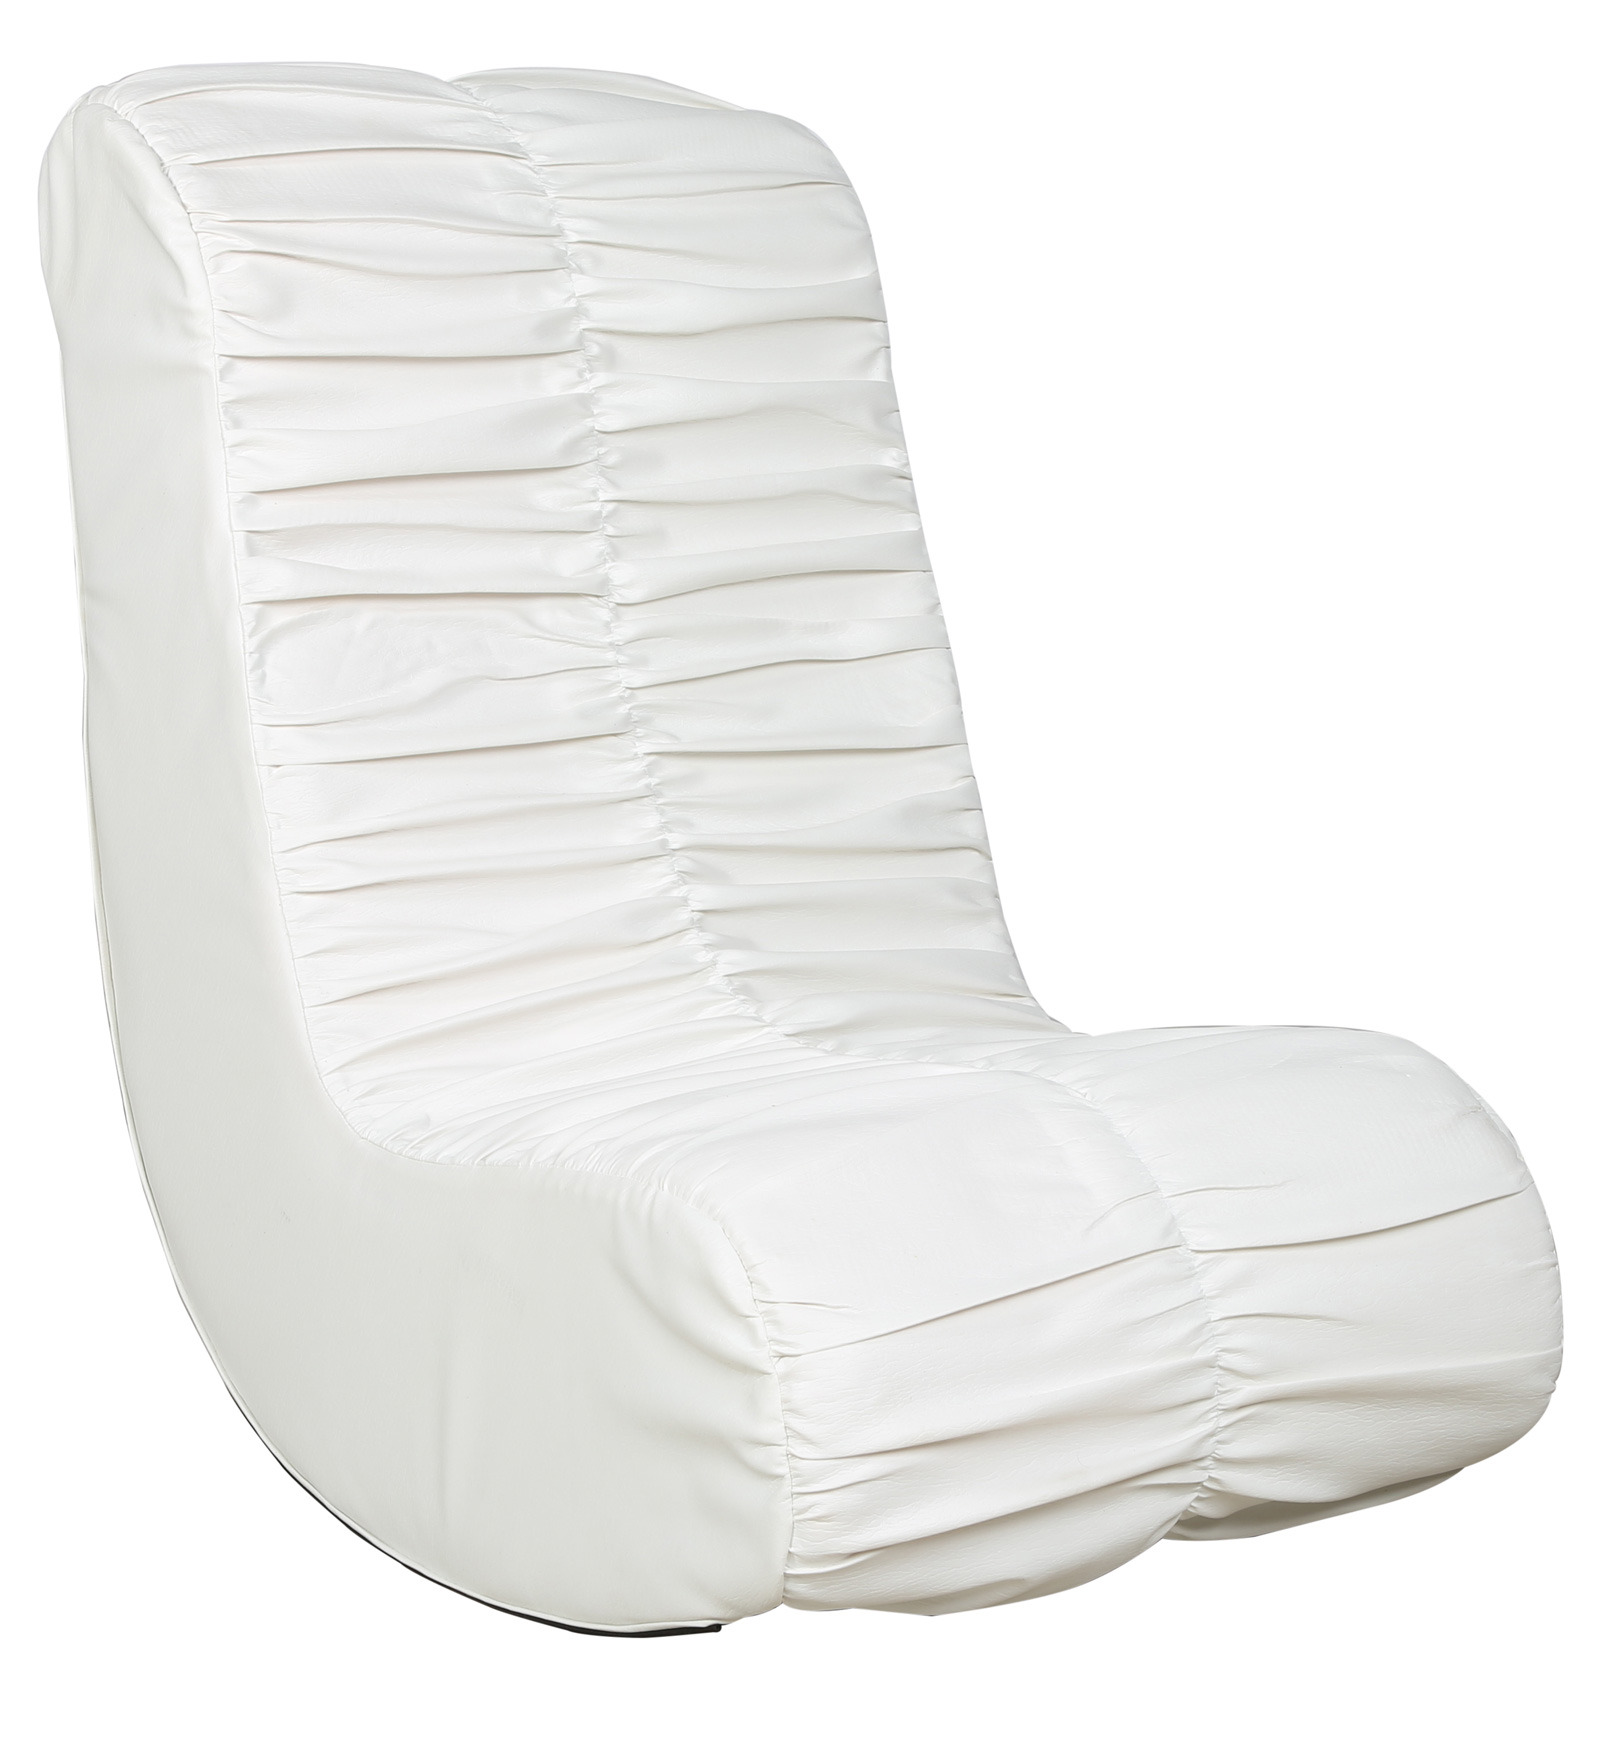Daisy Rocking Chair in White Colour by Parin: (28, 41, 1589, 1634)
